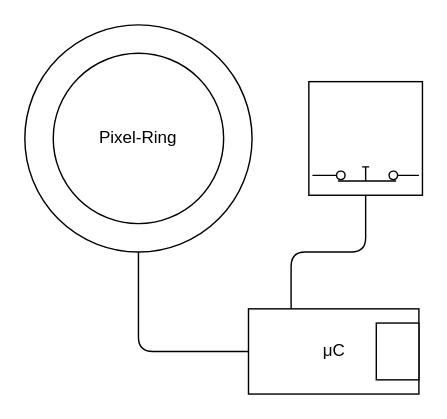
The diagram is 447 pixels wide and 419 high, and some of its shapes have lost their labels. Each missing label, with the centre of its shape:
"Switch" goes at point (364, 137).
"USB" goes at point (397, 351).
